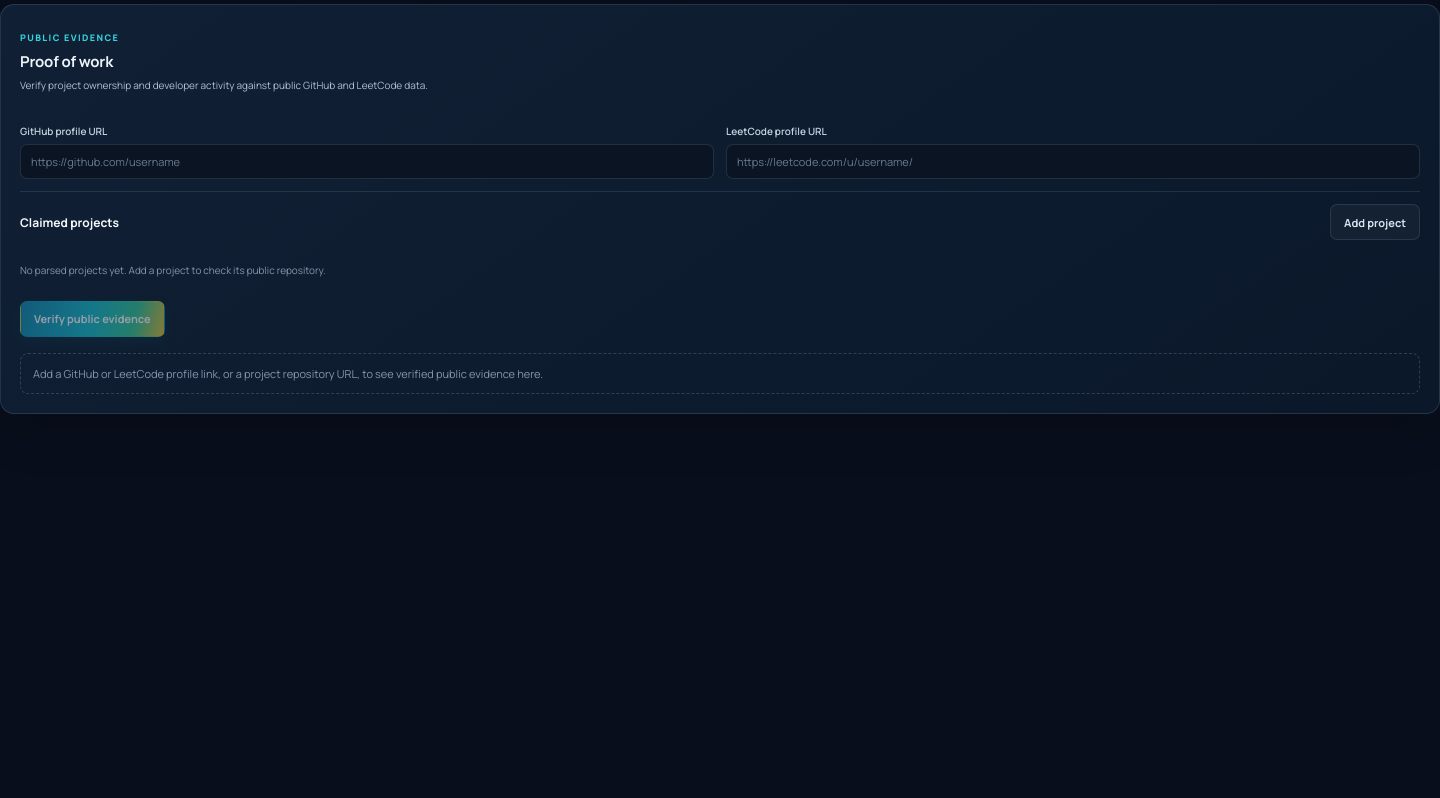
Test case: ProofOfWorkDashboard › displays verified and unverified project badges after verification
Type "https://github.com/ada" into the field labelled "GitHub profile URL".
click(367, 162); type("https://github.com/ada")  # box [20, 144, 714, 179]
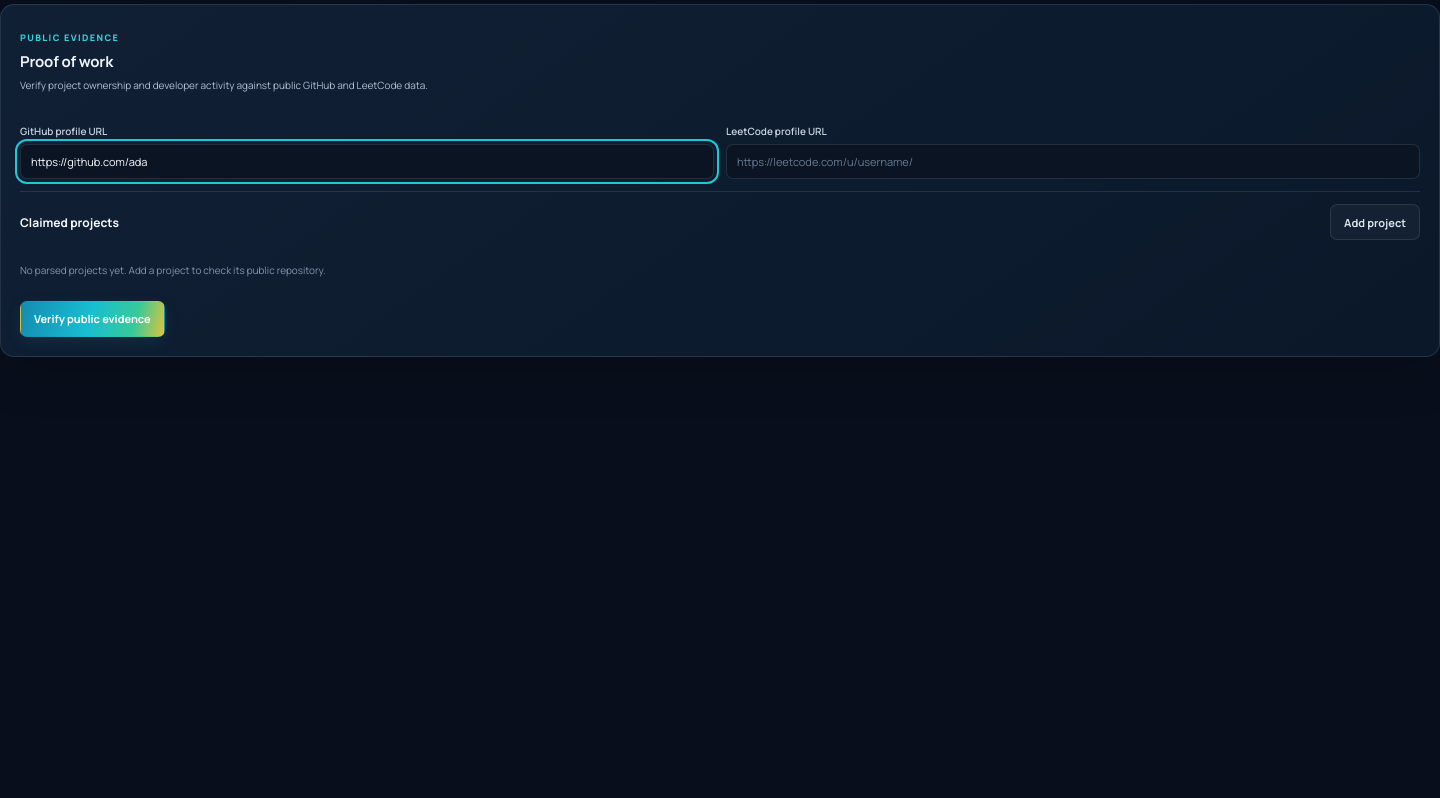
Click the button "Verify public evidence".
click(92, 318)  # box [20, 300, 164, 336]
(page scrolled)
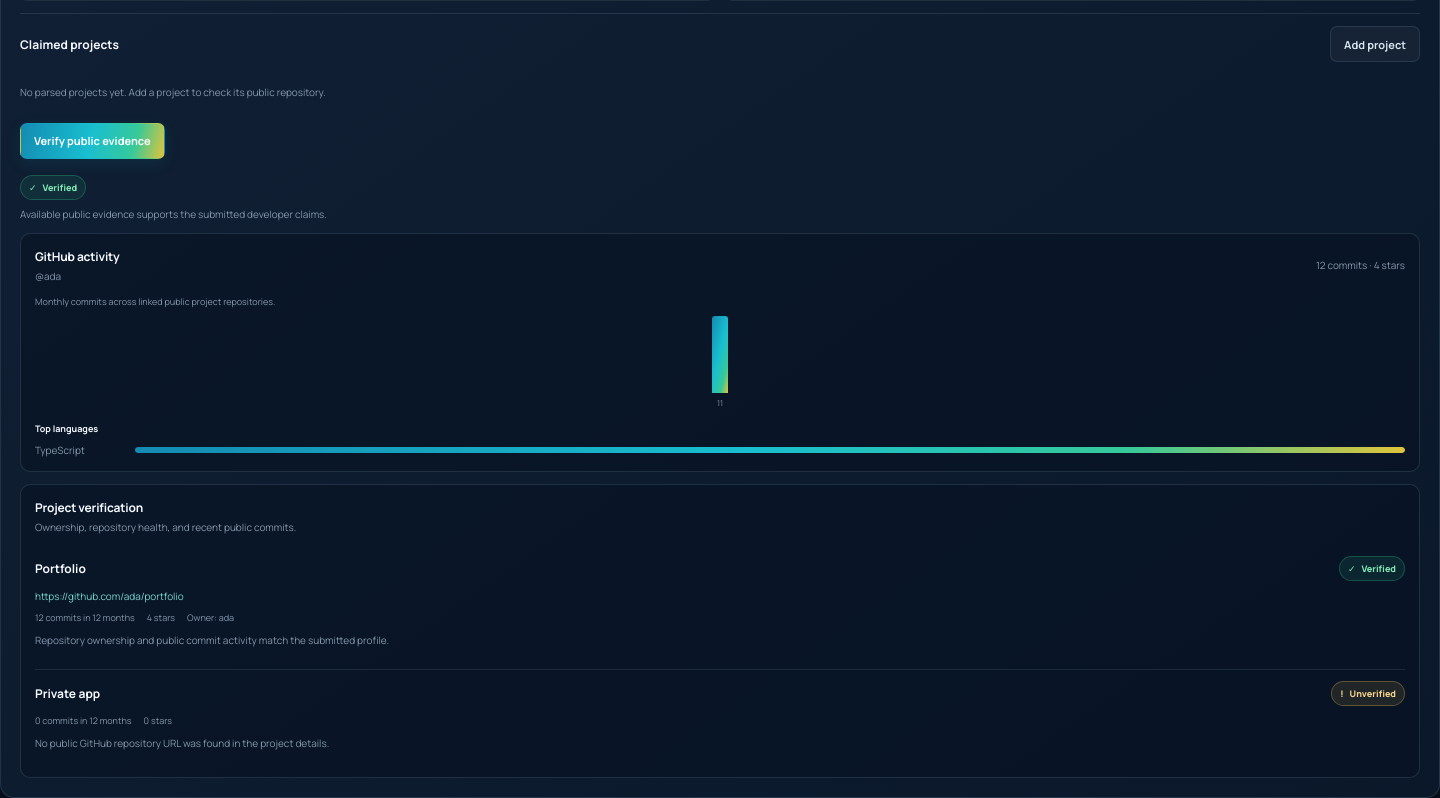
expect the text "Portfolio" is shown: met, box [35, 560, 86, 576]
expect the 1st text "Verified" is shown: met, box [42, 180, 77, 194]
expect the text "Unverified" is shown: met, box [1350, 687, 1396, 700]
